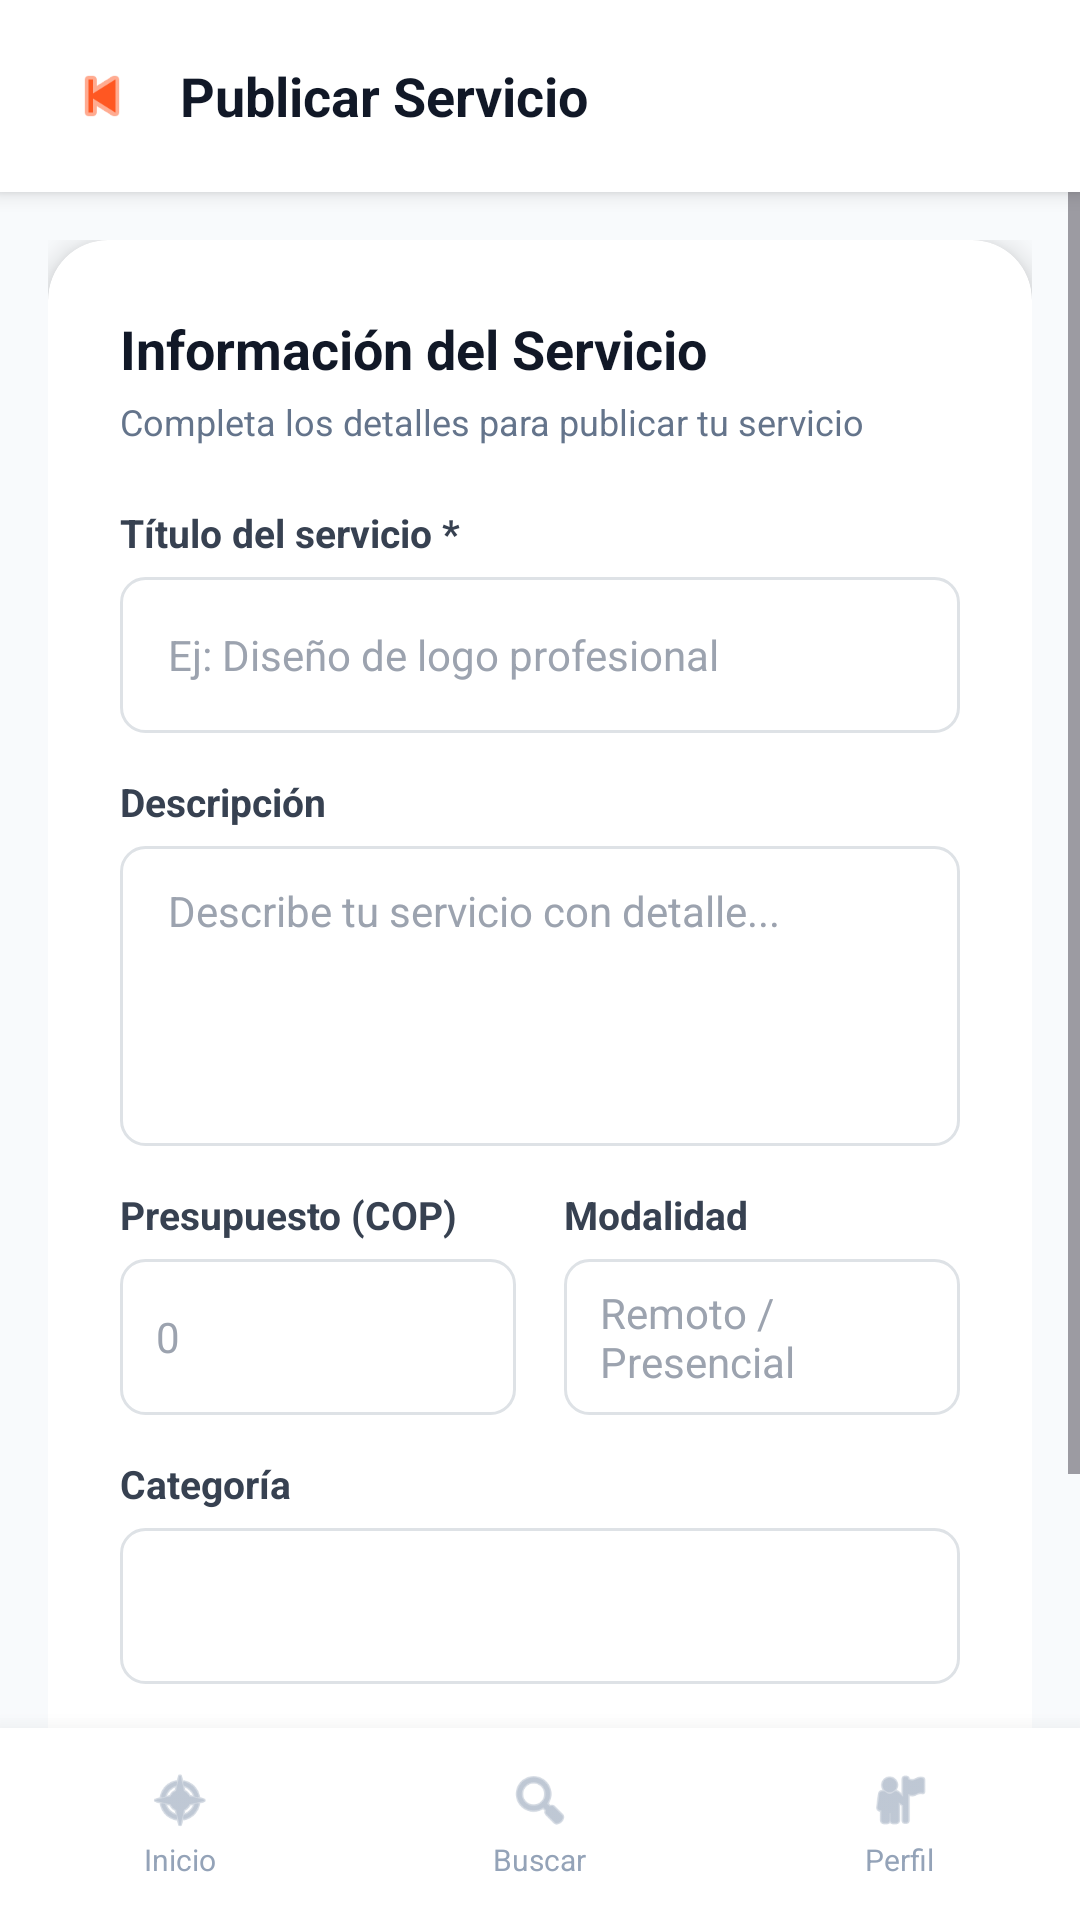

Icons on this 1080*1920 Android screen, each with its box as (x1, y1, x2, y2):
compass: (154, 1775, 205, 1826)
myplaces: (876, 1776, 925, 1824)
previous: (85, 76, 119, 116)
